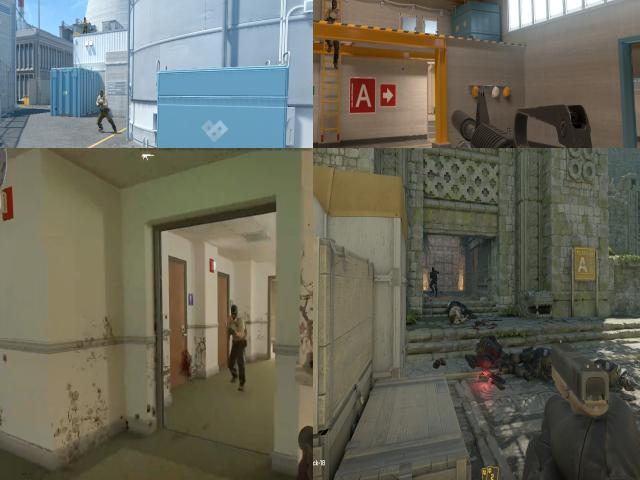Bomb: (477, 367, 494, 389)
CT: (427, 260, 442, 300)
CT-Head: (430, 263, 438, 274)
Dead: (463, 328, 512, 378), (512, 344, 555, 384), (593, 360, 640, 393), (444, 299, 474, 332)
T: (221, 295, 250, 370), (326, 0, 340, 49), (97, 90, 109, 130), (82, 17, 88, 33)
T-Head: (227, 303, 242, 325), (331, 0, 338, 11), (98, 90, 105, 98), (84, 17, 86, 21)
